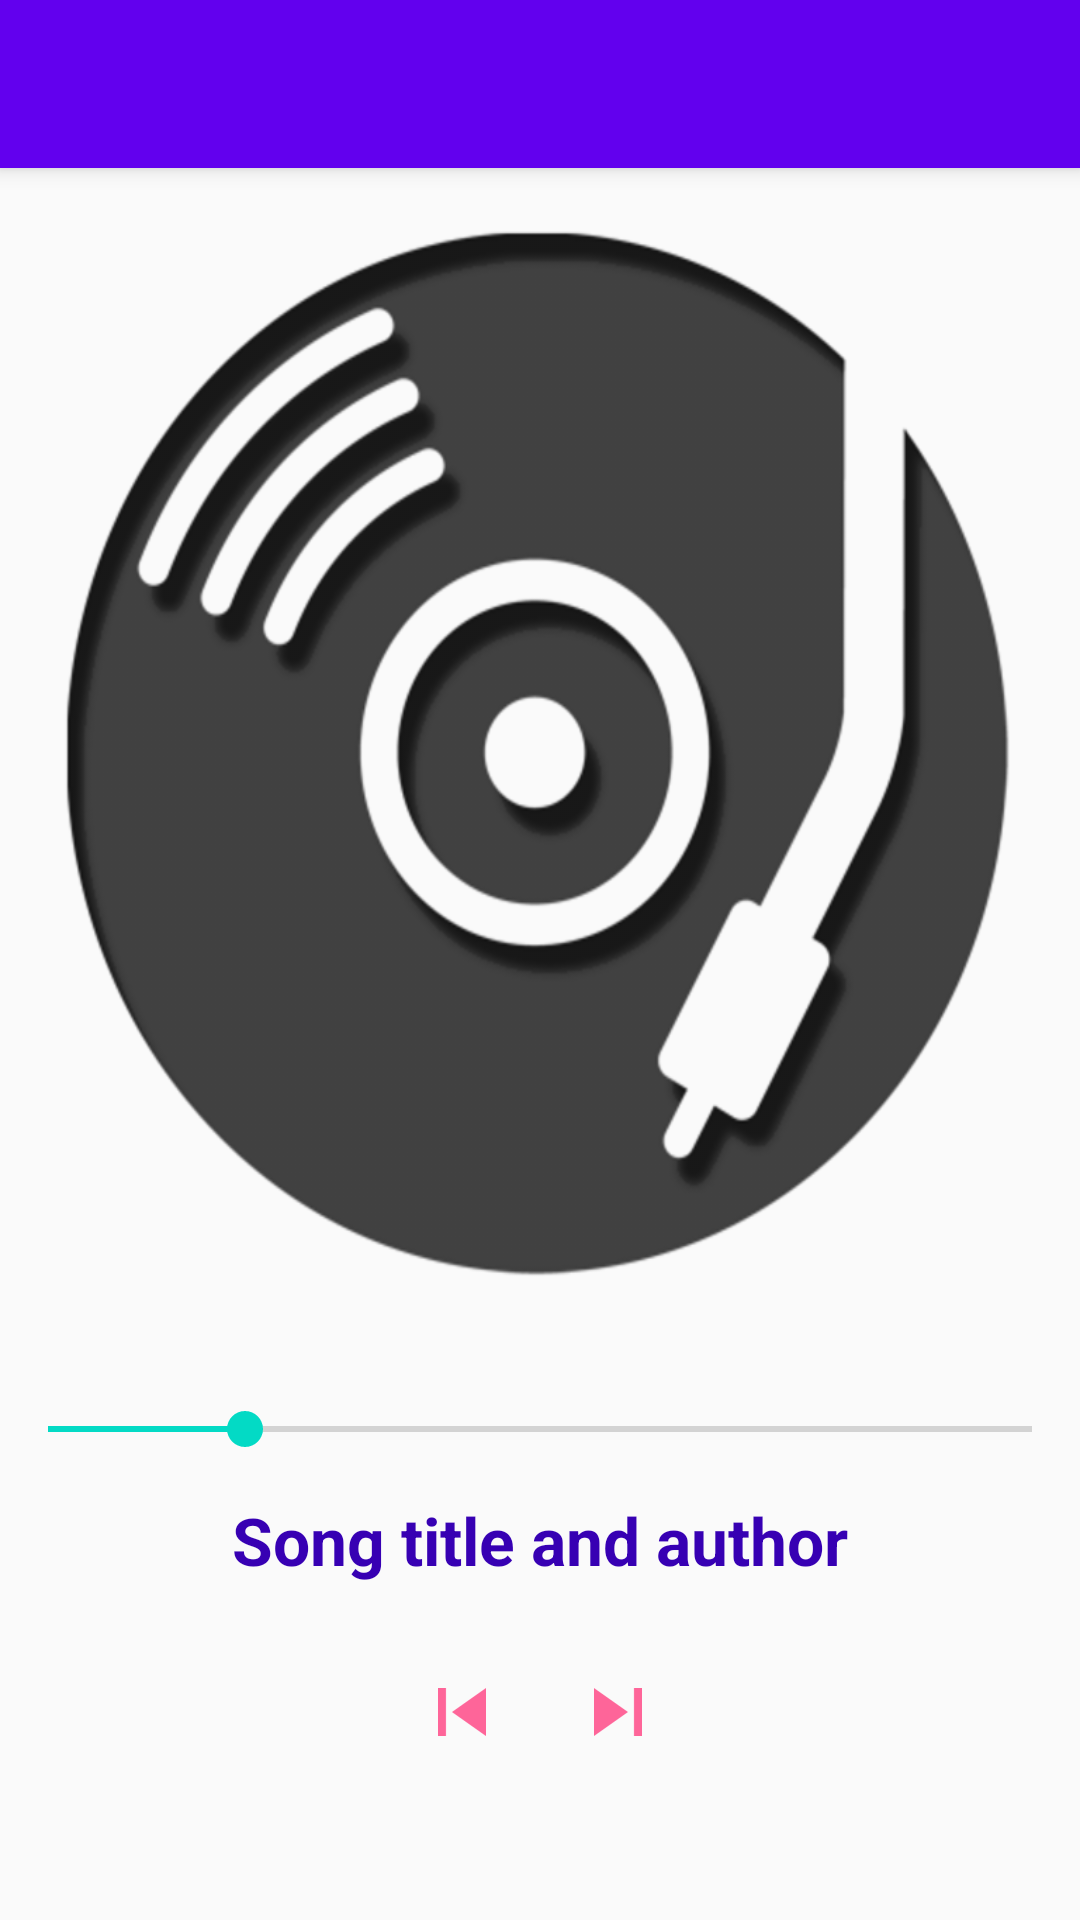

Screen size 1080 x 1920. Icon name, then its box in pixels as detection(x1, y1, x2, y2):
Next Button: detection(594, 1688, 642, 1736)
Previous Button: detection(438, 1688, 486, 1736)
